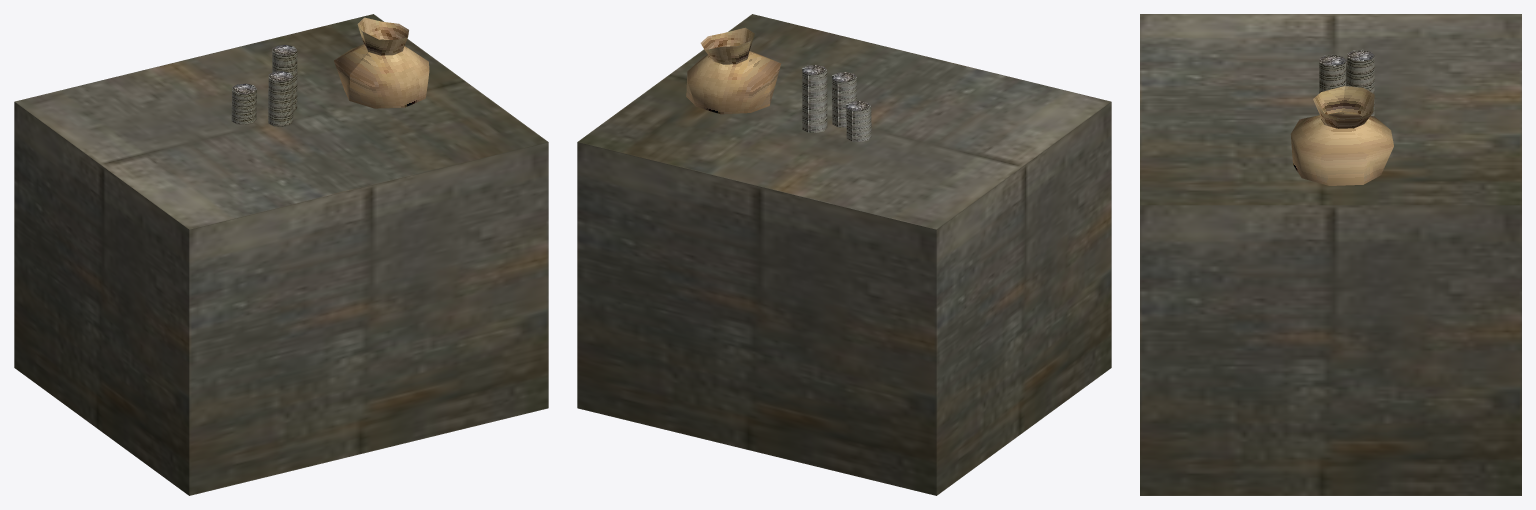
File: moneytable.glb
3 renders of one model, left to right at view 1: azimuth 30°, elevation 25°; view 2: azimuth 150°, elevation 25°; view 3: azimuth 270°, elevation 25°, orthographic. The views are drawn at different scales.
Visible parts, largest first — view 1: money.ms3d.mo; view 2: money.ms3d.mo; view 3: money.ms3d.mo.
Part boxes in pixels (bbox=[...]): money.ms3d.mo: bbox=[14, 14, 548, 495]; money.ms3d.mo: bbox=[577, 14, 1111, 495]; money.ms3d.mo: bbox=[1140, 14, 1521, 495].
Size of the model in its own units: 4.62 by 4.06 by 3.9.
3 materials, 3 textured.
